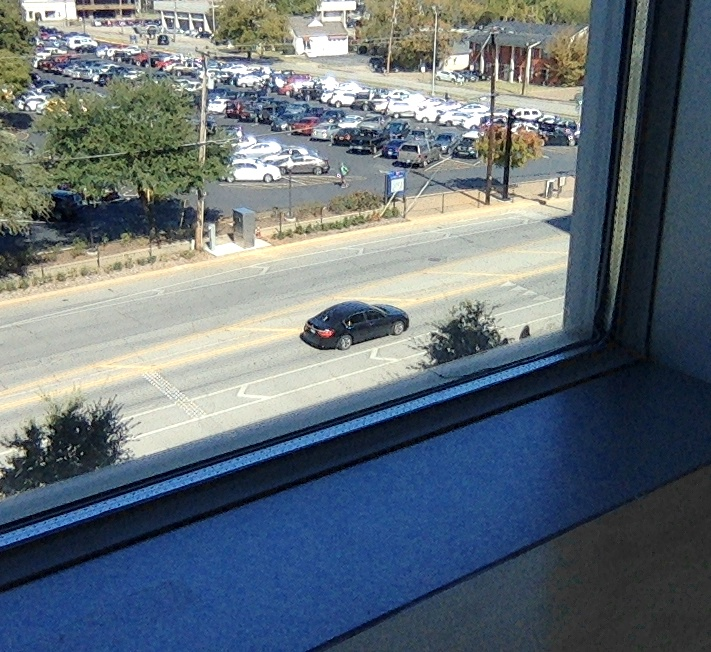car: (300, 300, 411, 352)
